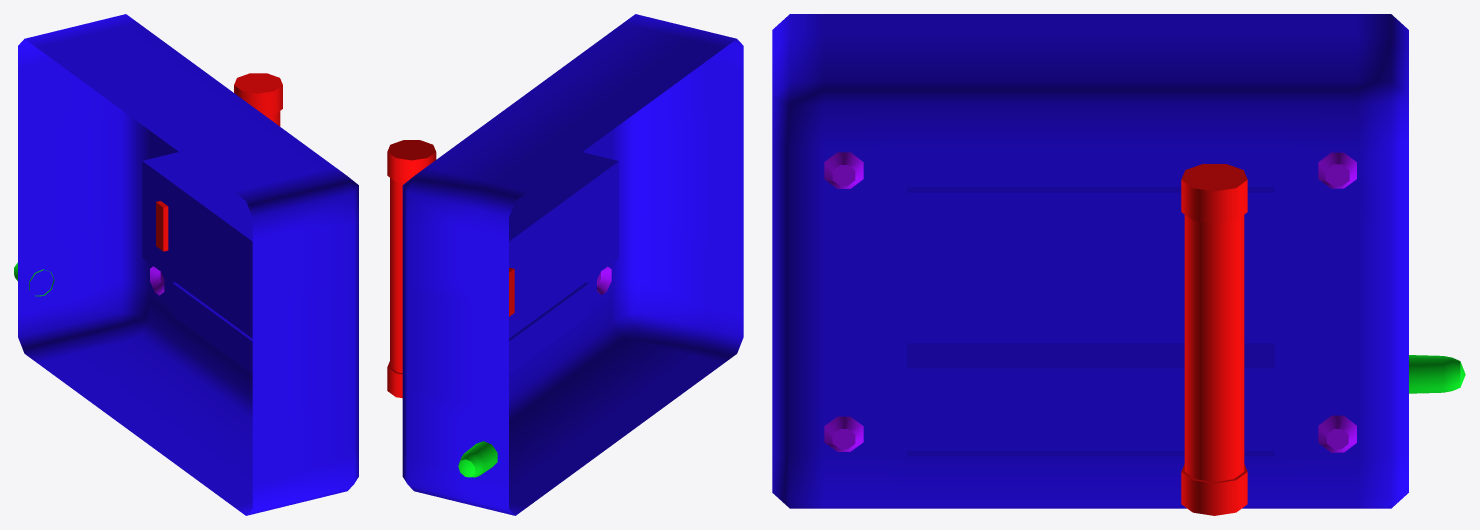
The model's file is P_Disjonteur.fbx.
3 renders of one model, left to right at view 1: azimuth 30°, elevation 25°; view 2: azimuth 150°, elevation 25°; view 3: azimuth 270°, elevation 25°, orthographic. The views are drawn at different scales.
Visible parts, largest first — view 1: P_Disjonteur; view 2: P_Disjonteur; view 3: P_Disjonteur.
Part boxes in pixels (left/top/right/bottom): P_Disjonteur: left=14, top=14, right=358, bottom=515; P_Disjonteur: left=387, top=14, right=743, bottom=515; P_Disjonteur: left=772, top=14, right=1465, bottom=515.
Size of the model in its own units: 24.03 by 37.99 by 55.86.
